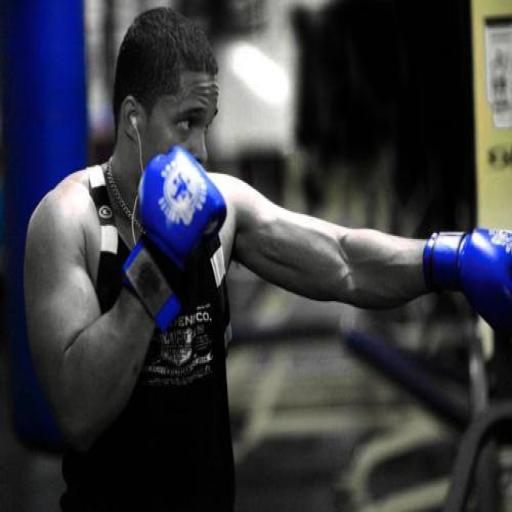boxing: (21, 4, 510, 510)
